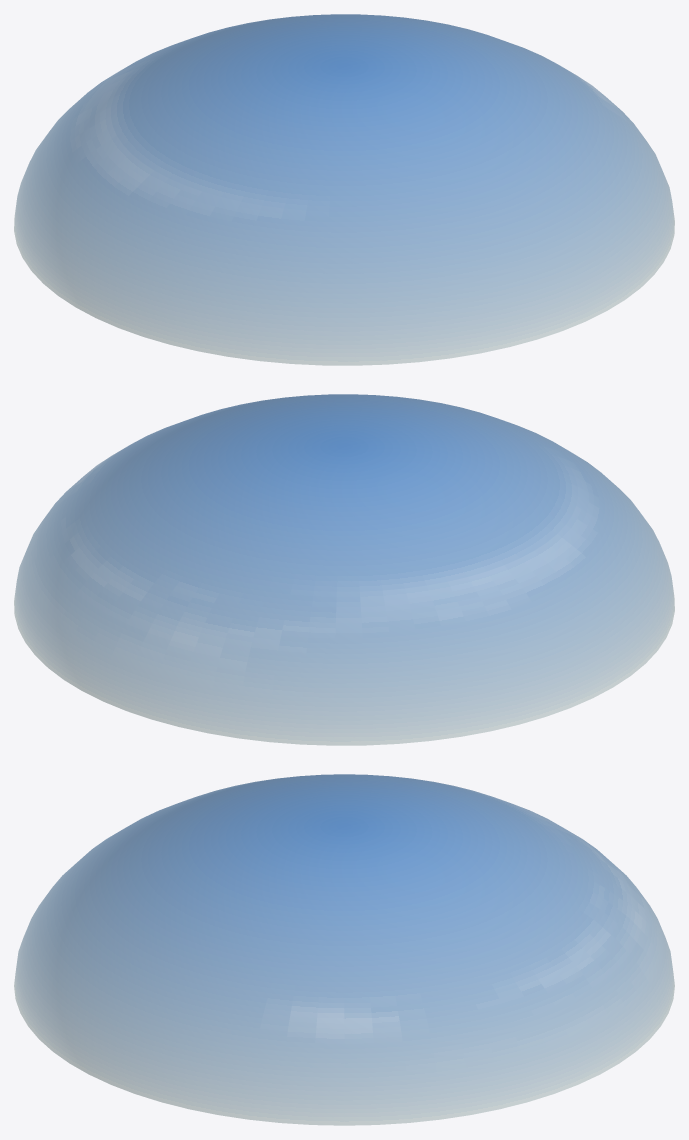
File: env-sky-s26-lyka-dao.glb
3 renders of one model, top to bottom at view 1: azimuth 30°, elevation 25°; view 2: azimuth 150°, elevation 25°; view 3: azimuth 270°, elevation 25°, orthographic.
Visible parts, largest first — view 1: Sky; view 2: Sky; view 3: Sky.
Boxes of the visible parts, box(x1,y1,x2,y2) form: Sky: box(14, 14, 674, 365); Sky: box(14, 394, 674, 745); Sky: box(14, 774, 674, 1125).
Size of the model in its own units: 1200 by 320 by 1200.
2 materials, 1 textured.
